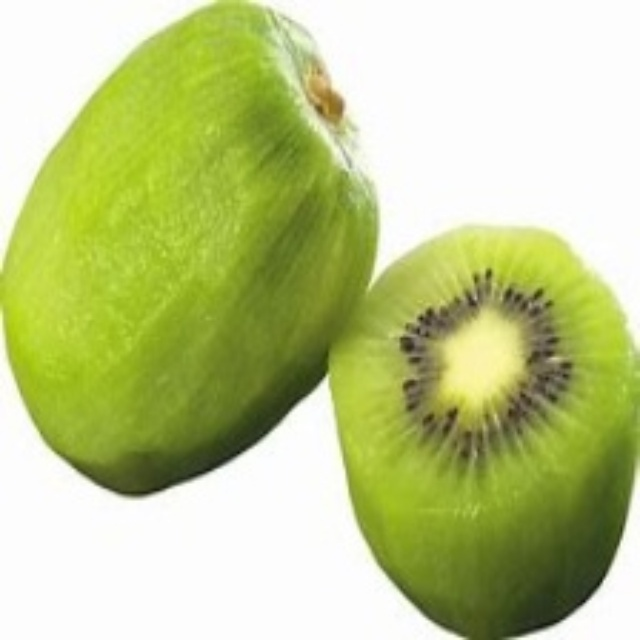kiwi: (11, 12, 349, 477), (322, 218, 632, 633)
